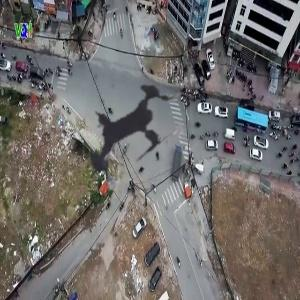drone: (42, 37, 224, 219)
